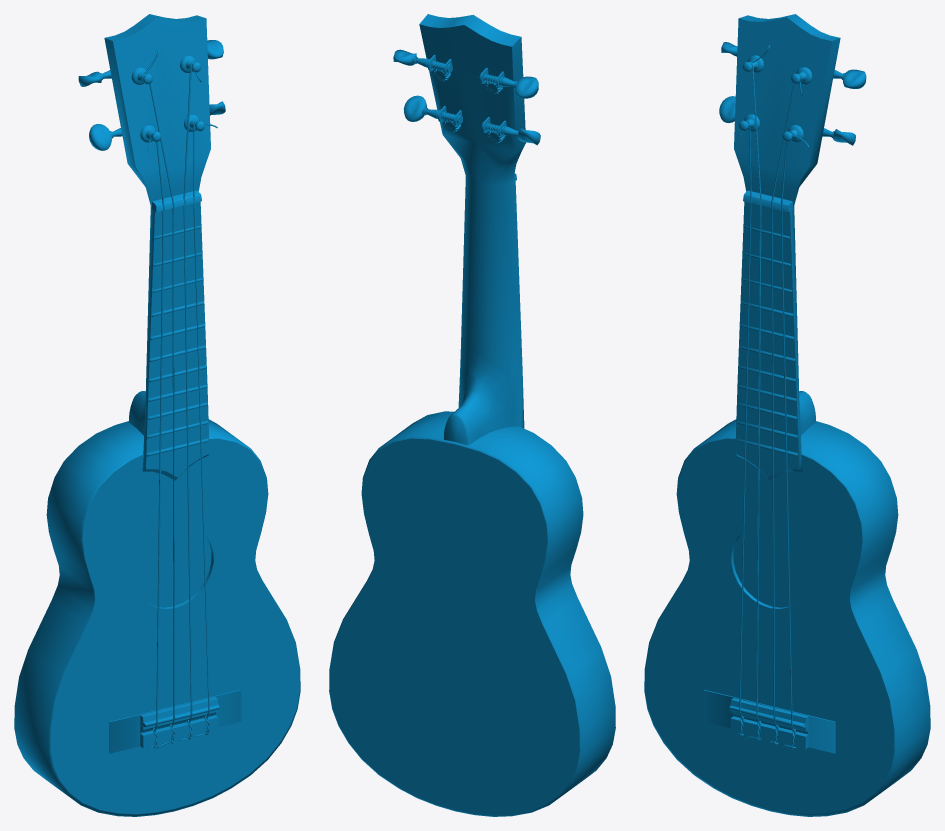
Rendered from ukulele.fbx.
The picture shows the model from 3 angles, left to right: view 1: azimuth 30°, elevation 25°; view 2: azimuth 150°, elevation 25°; view 3: azimuth 330°, elevation 25°; orthographic projection.
Visible parts, largest first — view 1: base_low.002, strings_low.002, stringBasePlate_low.002, pegEnds_low.002, tuningKnobs_low.002, stringBaseRestHolder_low.002, stringFeeder_low.002; view 2: base_low.002, pegEnds_low.002, pegs_low.002, plates_low.002, gears_low.002; view 3: base_low.002, strings_low.002, stringBasePlate_low.002, pegEnds_low.002, tuningKnobs_low.002, stringBaseRestHolder_low.002, stringFeeder_low.002.
Boxes of the visible parts, x1,y1,x2,y2 form: base_low.002: [14, 14, 300, 816]; strings_low.002: [141, 49, 217, 748]; stringBasePlate_low.002: [109, 689, 241, 753]; pegEnds_low.002: [78, 40, 225, 150]; tuningKnobs_low.002: [131, 55, 204, 142]; stringBaseRestHolder_low.002: [140, 697, 218, 733]; stringFeeder_low.002: [151, 190, 201, 212]; base_low.002: [329, 14, 615, 816]; pegEnds_low.002: [393, 49, 540, 145]; pegs_low.002: [413, 57, 518, 137]; plates_low.002: [428, 54, 506, 136]; gears_low.002: [434, 69, 505, 143]; base_low.002: [644, 14, 930, 816]; strings_low.002: [737, 45, 809, 748]; stringBasePlate_low.002: [703, 689, 835, 753]; pegEnds_low.002: [719, 42, 866, 145]; tuningKnobs_low.002: [739, 55, 812, 142]; stringBaseRestHolder_low.002: [730, 698, 808, 734]; stringFeeder_low.002: [743, 190, 793, 212].
Bounding box in the file's own units: 249 × 737 × 71.04.
